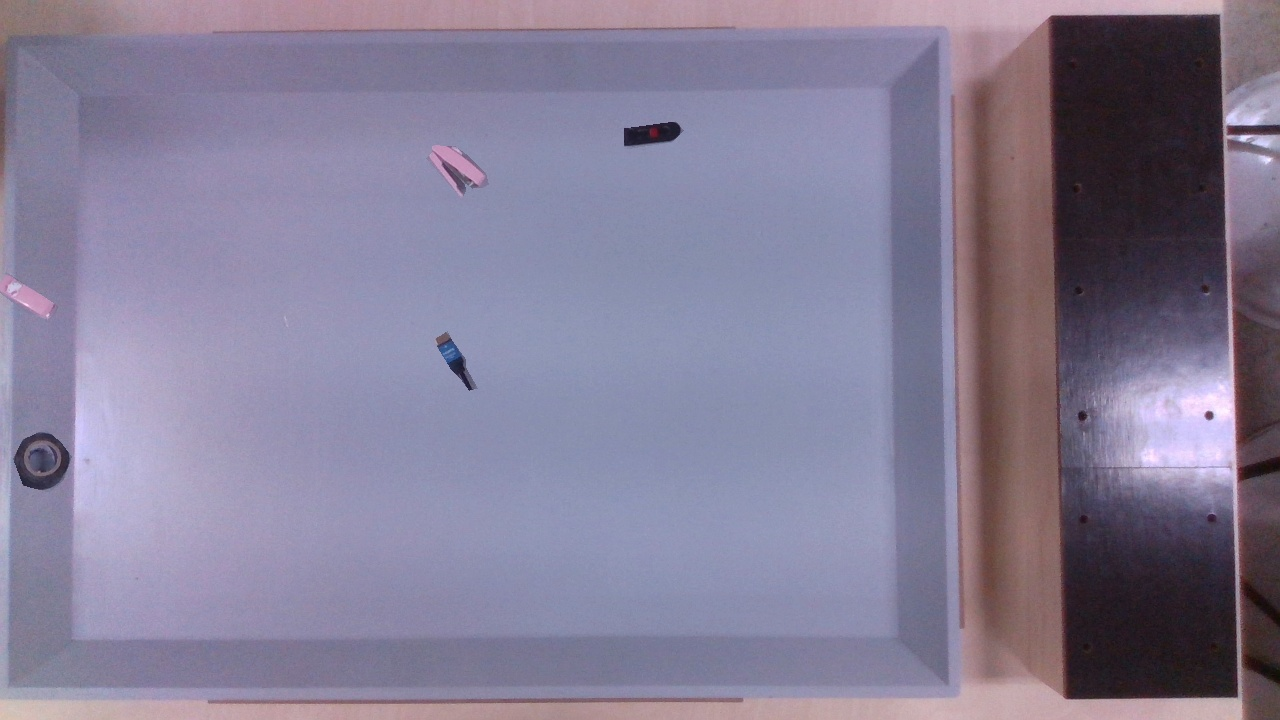Stapler_pink: (0, 145, 488, 320)
Tape_black: (13, 429, 71, 492)
Usb_Big: (624, 121, 683, 149)
Usb_HDMI: (434, 331, 477, 390)
